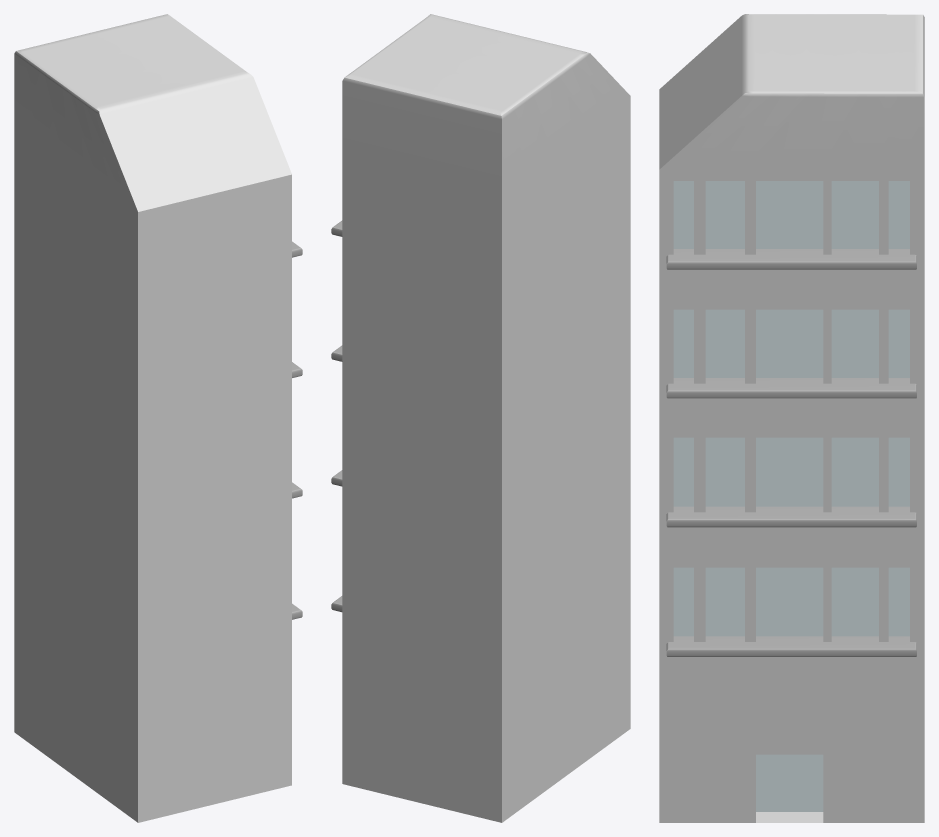
File: BuildingTall_02.fbx
The picture shows the model from 3 angles, left to right: view 1: azimuth 30°, elevation 25°; view 2: azimuth 150°, elevation 25°; view 3: azimuth 270°, elevation 25°; orthographic projection. The views are drawn at different scales.
Parts seen in each view (by area): view 1: polySurface757; view 2: polySurface757; view 3: polySurface757.
Boxes of the visible parts, x1,y1,x2,y2 form: polySurface757: (14,14,302,822); polySurface757: (331,14,630,822); polySurface757: (659,14,924,822).
Bounding box in the file's own units: 4.03 × 15.63 × 5.14.
Materials: 1 (1 with a texture image).
